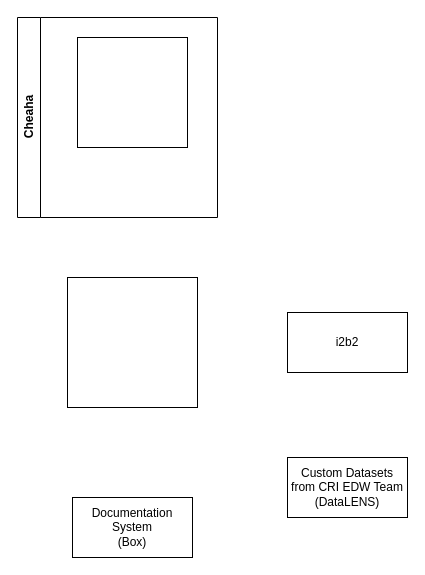
This 425x575 diagram has some shape labels left out. Each missing label, with the centre of its shape:
"Gitlab" belongs at point (132, 342).
"Omics Data" belongs at point (132, 92).
